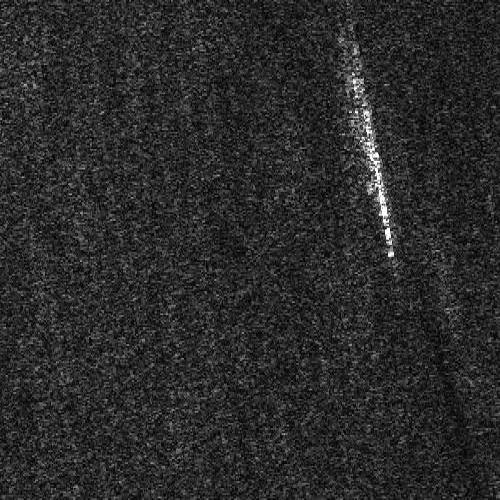ship: (353, 76, 394, 258)
